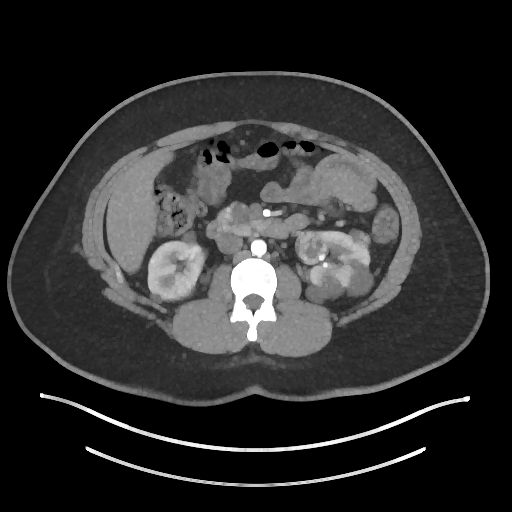Lesion: (294, 228, 329, 270)
